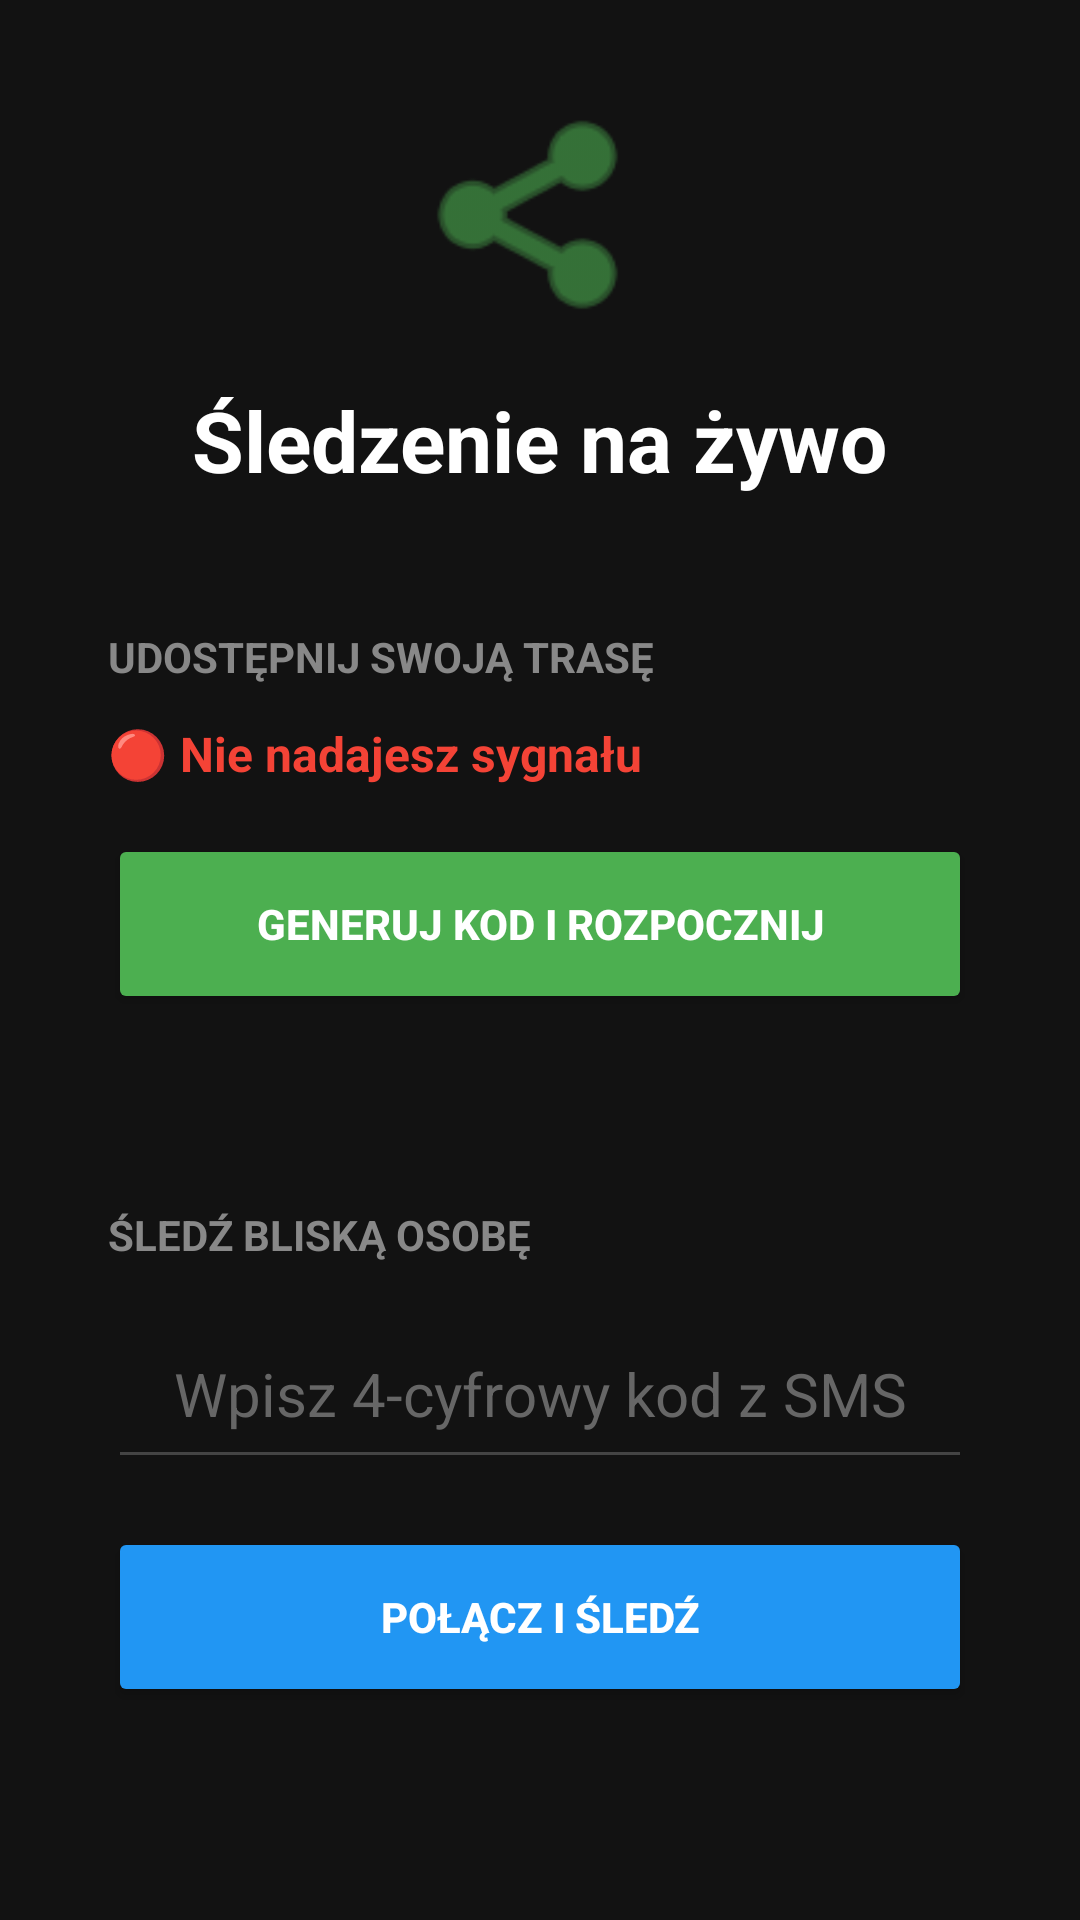

Where to tap for icons on this 1080x1920 app screen, as point (x, y):
share: point (527, 214)
